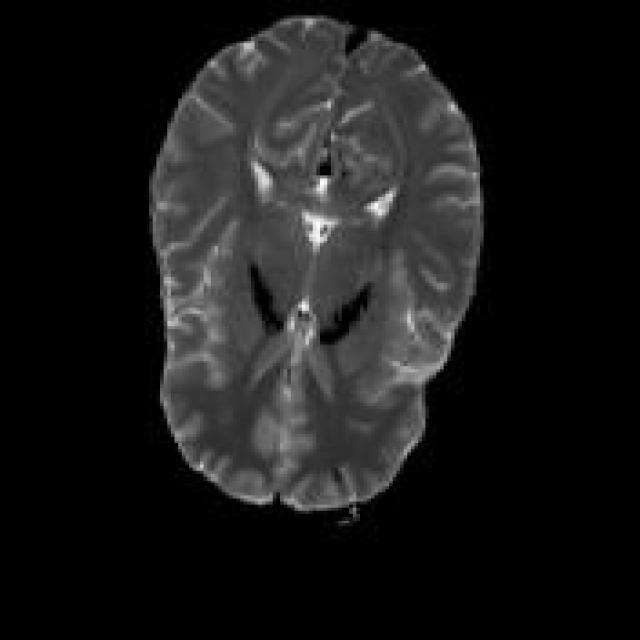CONTROL: (146, 12, 483, 517)
